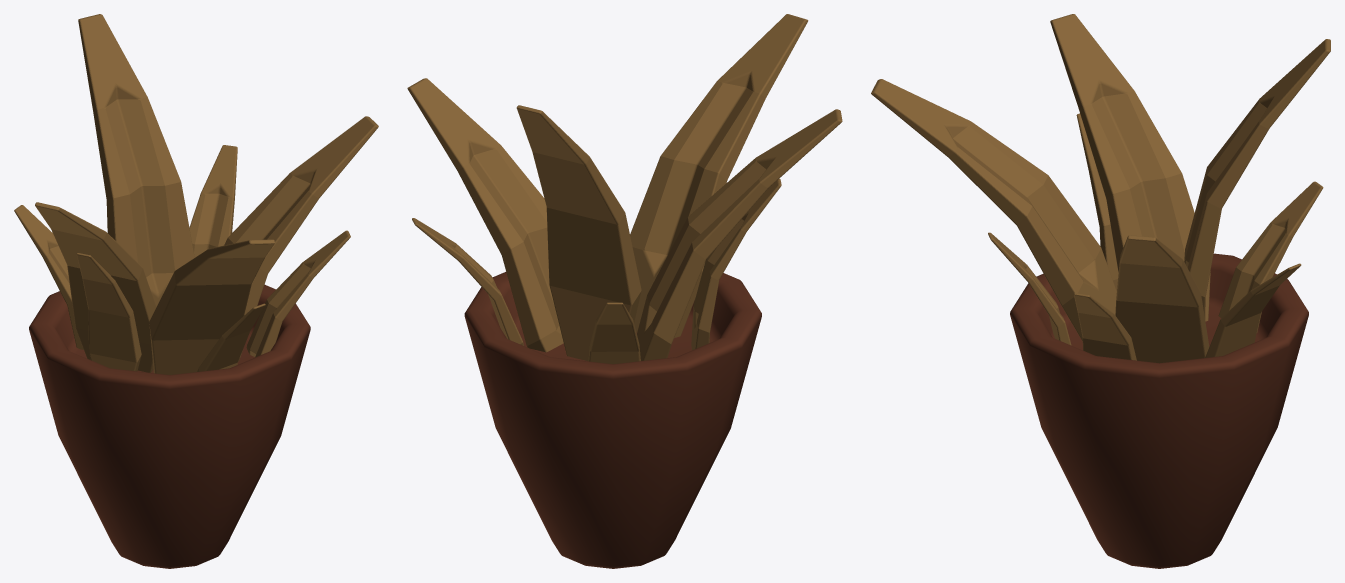
The model's file is flower_1x1.fbx.
The picture shows the model from 3 angles, left to right: view 1: azimuth 30°, elevation 25°; view 2: azimuth 150°, elevation 25°; view 3: azimuth 270°, elevation 25°; orthographic projection. The views are drawn at different scales.
Parts seen in each view (by area): view 1: çiçek_1x1; view 2: çiçek_1x1; view 3: çiçek_1x1.
Part boxes in pixels (box(x1,y1,x2,y2)): çiçek_1x1: box(14, 14, 378, 568); çiçek_1x1: box(407, 14, 842, 568); çiçek_1x1: box(871, 14, 1330, 568).
Bounding box in the file's own units: 128 × 155 × 128.
